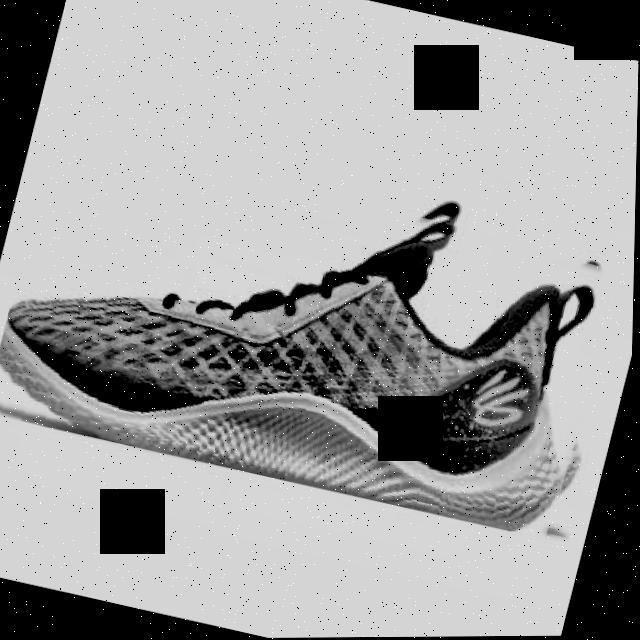shoe: (0, 114, 638, 546)
